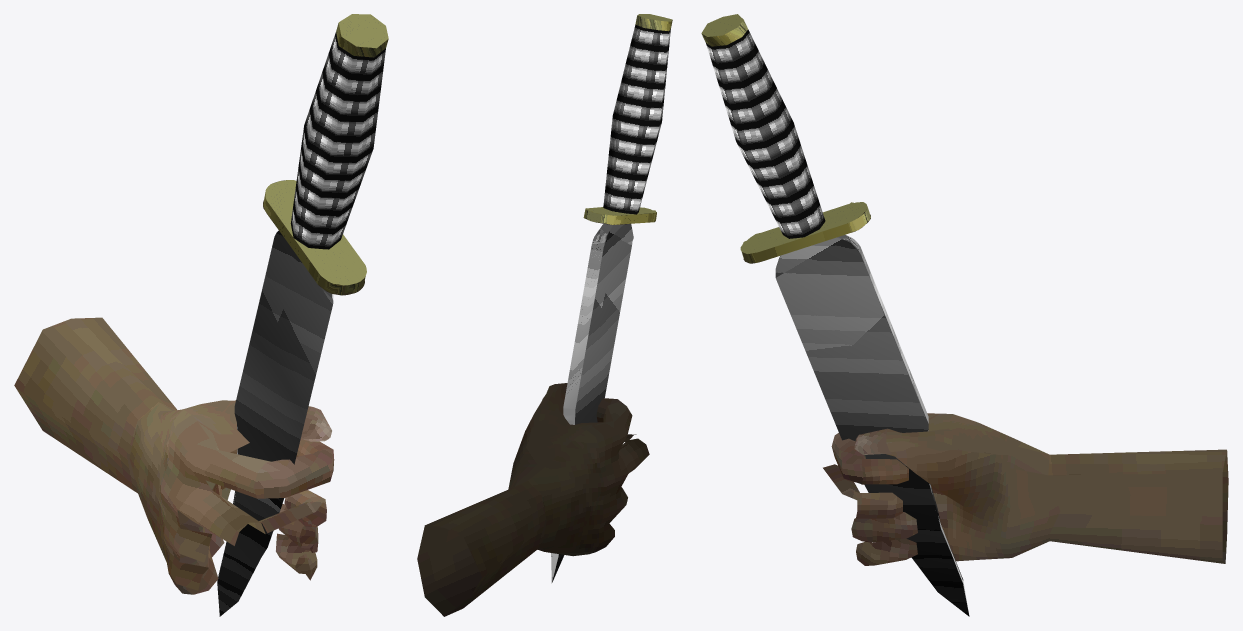
The model's file is GthrowknifeZ.obj.
3 renders of one model, left to right at view 1: azimuth 30°, elevation 25°; view 2: azimuth 150°, elevation 25°; view 3: azimuth 270°, elevation 25°, orthographic. The views are drawn at different scales.
Size of the model in its own units: 83 by 435 by 348.
Materials: 24 (24 with a texture image).
